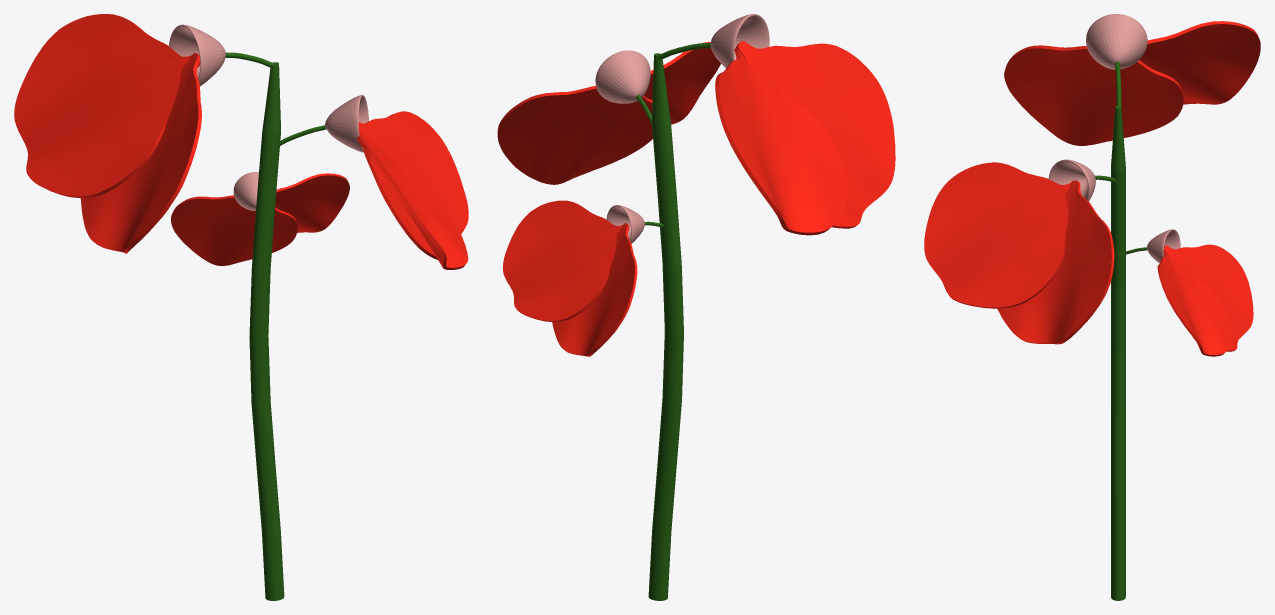
3 views of the same model, side by side, from view 1: azimuth 30°, elevation 25°; view 2: azimuth 150°, elevation 25°; view 3: azimuth 270°, elevation 25° (orthographic). The views are drawn at different scales.
Parts seen in each view (by area): view 1: f13; view 2: f13; view 3: f13.
Boxes of the visible parts, x1=… form: f13: x1=14, y1=14, x2=468, y2=600; f13: x1=497, y1=14, x2=895, y2=600; f13: x1=924, y1=14, x2=1260, y2=600.
Bounding box in the file's own units: 0.5287 × 0.7974 × 0.4473.
